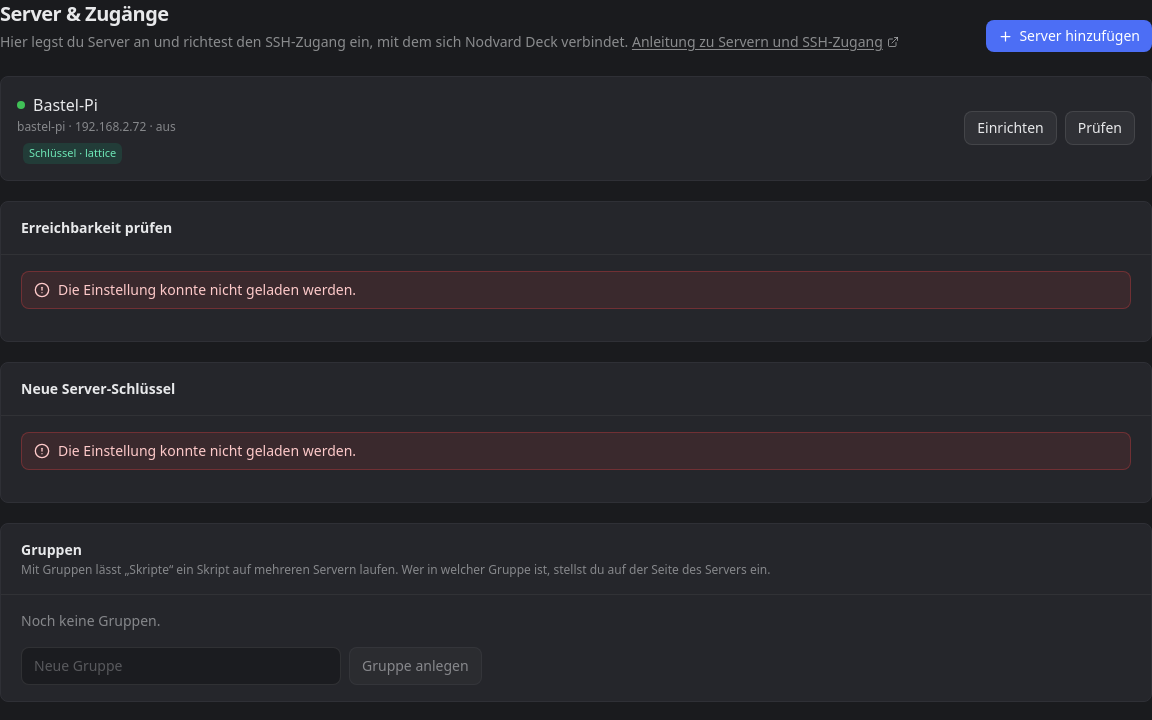
Server & Zugänge: Formular „Neuen Server anlegen“ gleich offen › ohne ?neu=1 öffnet erst der Knopf das Formular
Expected: the text "Bastel-Pi" is shown, [33,93,98,117]
Expected: the text "Neuen Server anlegen" is not shown
Click the button "Server hinzufügen": [1069, 36] box [986,20,1151,52]
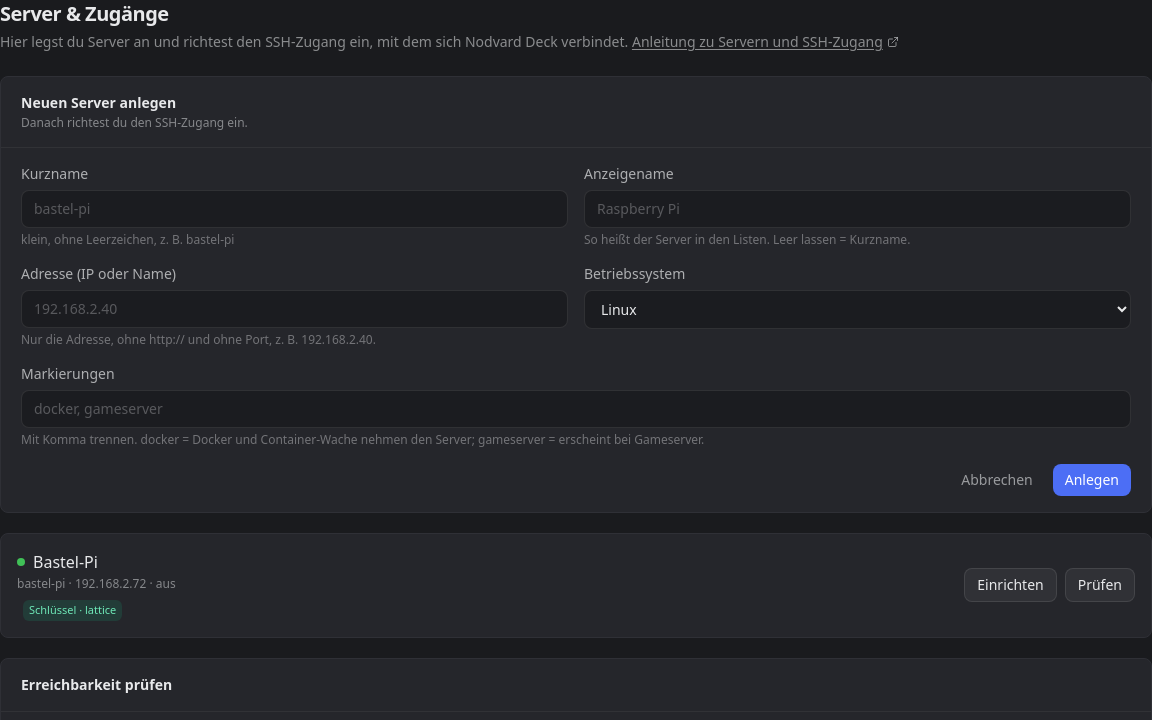
Now the heading "Neuen Server anlegen" is shown, box [21,93,176,112]
